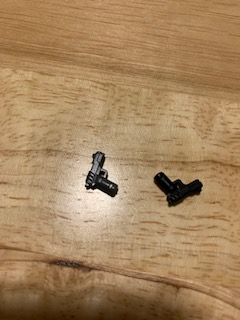pistol: (149, 168, 205, 208), (83, 151, 120, 198)
